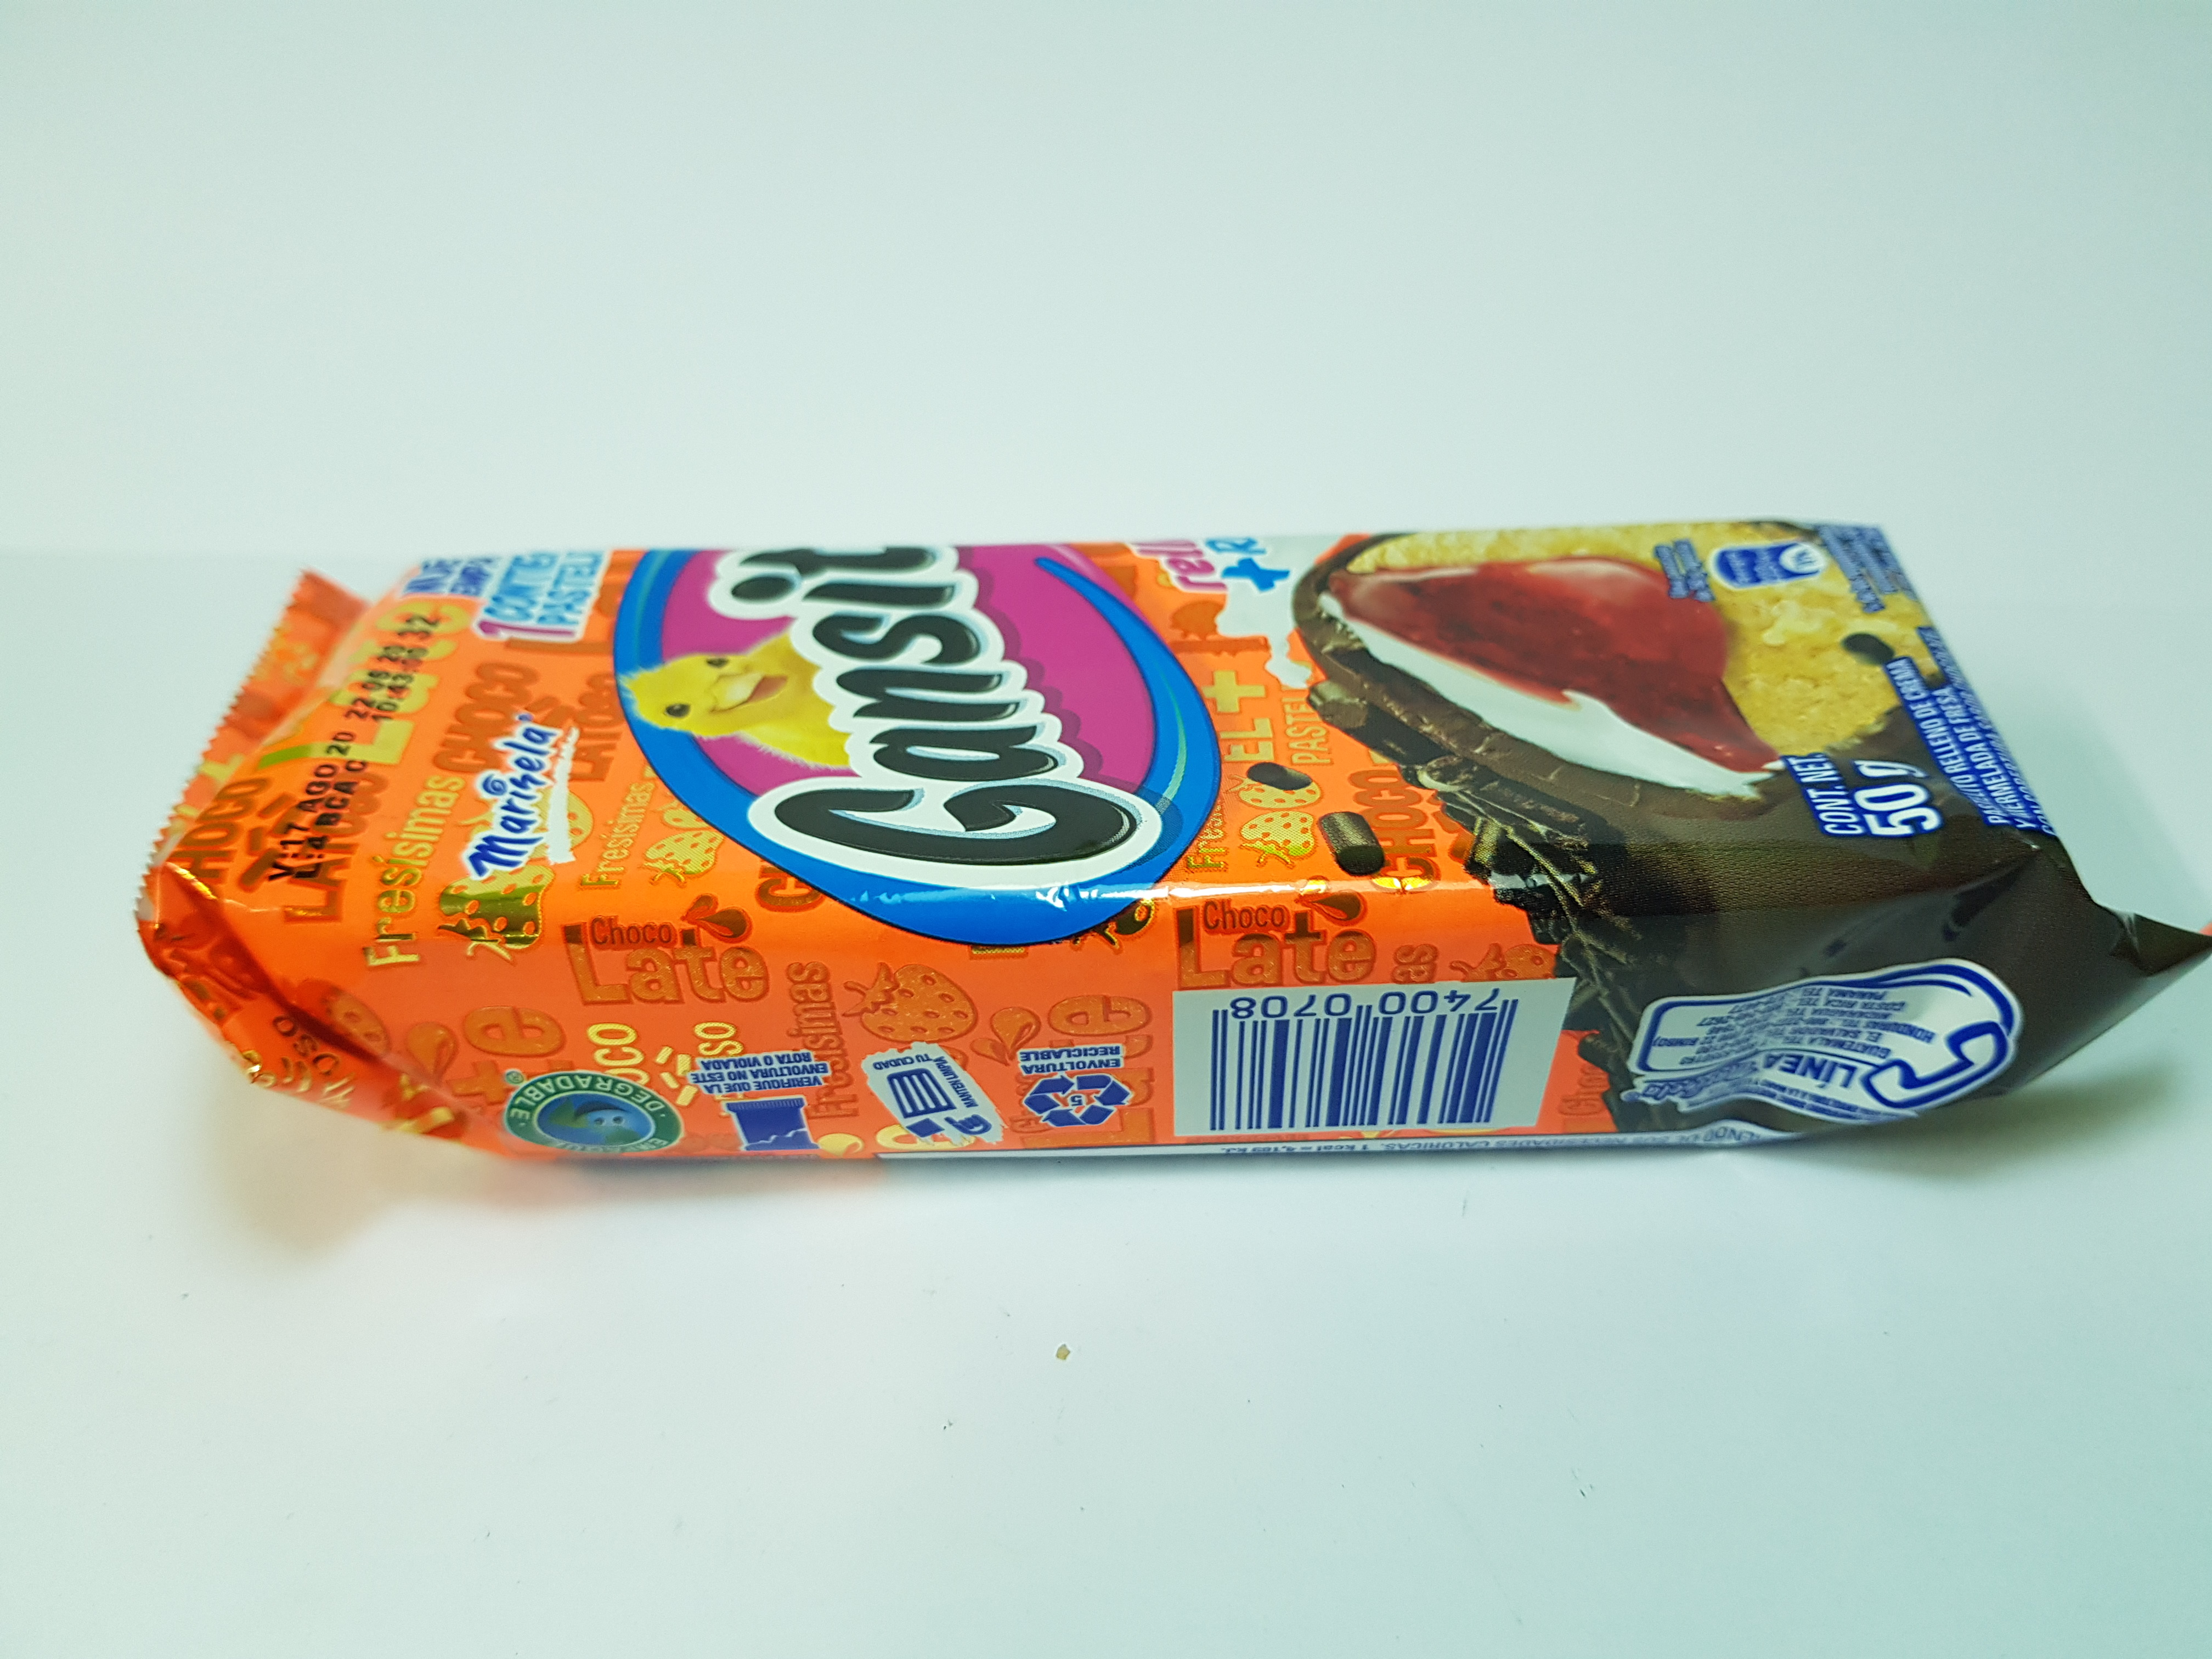gansito: (132, 521, 2212, 1190)
